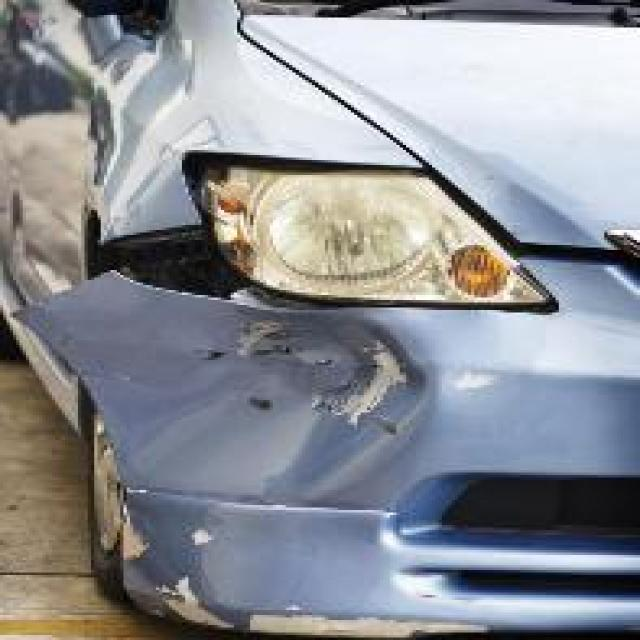Bumper: (8, 263, 640, 640)
Fender: (86, 72, 372, 254)
